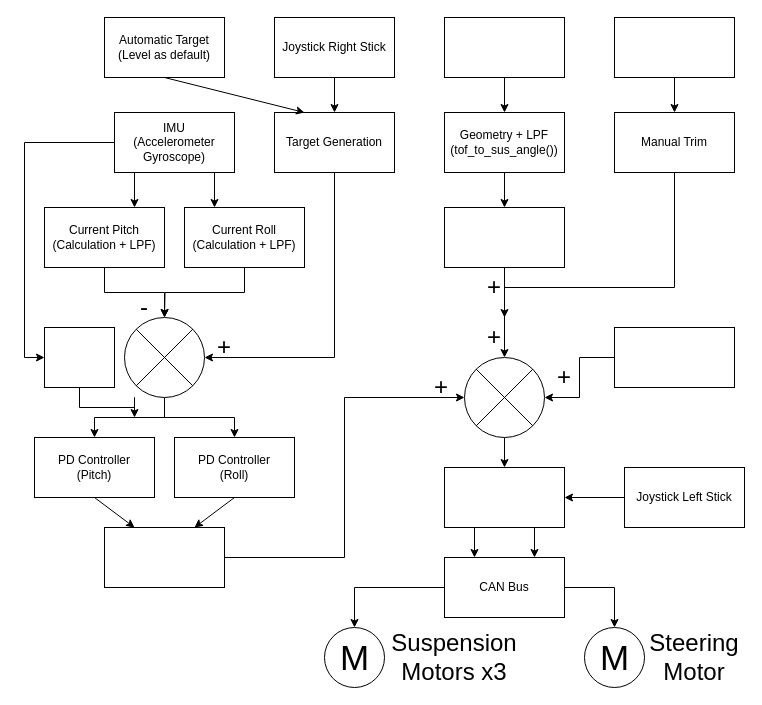
This 762x705 diagram has some shape labels left out. The shapes that lost their labels are listed below. From the top down, each one's centre as x and y in pixels, then its label:
At (x=504, y=47): "ToF Sensors".
At (x=674, y=47): "Joystick D-PAD".
At (x=504, y=237): "ToF Trim (Degree adjustment)".
At (x=79, y=357): "Pitch & Roll Rates DPS".
At (x=674, y=357): "Default Height Angle".
At (x=504, y=497): "Motor Target Follower move() LPF + Slew limiter".
At (x=164, y=557): "Body Mixer".
